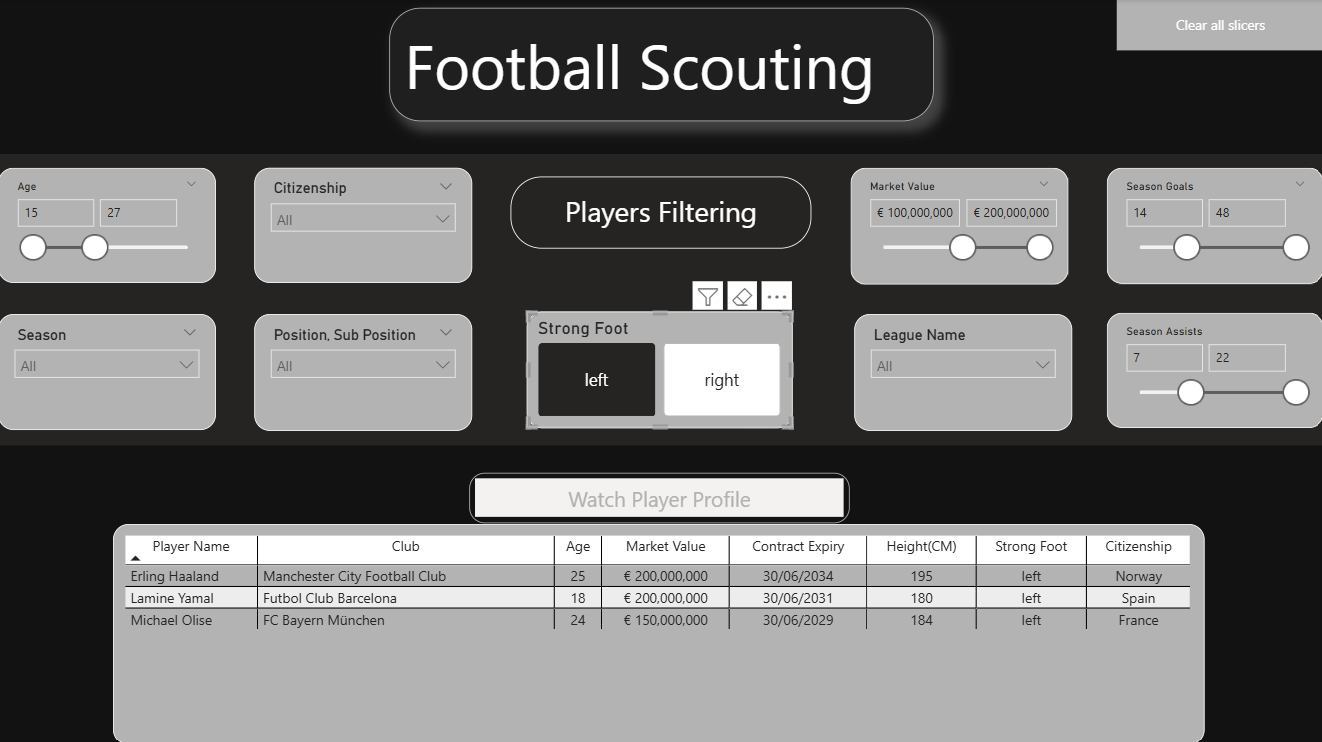

The page's visual inventory and layout, read from the dashboard file:
{"tool":"powerbi","page":{"name":"Players slicers","canvas":[1280,720],"ordinal":0},"visuals":[{"type":"shape","box":[0,150,1280,281.2],"z":0},{"type":"textbox","box":[377,8.3,525.9,109.9],"z":1000},{"type":"slicer","fields":{"Values":["players.position","players.sub_position"]},"box":[247.1,304.3,210,112.9],"z":2000},{"type":"textbox","box":[494.6,171.1,290.8,69.6],"z":3000},{"type":"slicer","fields":{"Values":["players.Age"]},"box":[0,163.3,210,111.1],"z":4000},{"type":"slicer","fields":{"Values":["players.market_value_in_eur"]},"box":[822.6,162.8,210.1,112.7],"z":5000},{"type":"slicer","fields":{"Values":["PlayerSeasonStats.Season"]},"box":[0,304.3,210,112],"z":6000},{"type":"tableEx","fields":{"Values":["PlayerSeasonStats.player_name","PlayerSeasonStats.club_name","players.Age","players.market_value_in_eur","players.Contract_Expiry_Clean","players.height_in_cm","players.foot","players.country_of_citizenship"]},"box":[111.2,506.2,1053.8,213.8],"z":7000},{"type":"slicer","fields":{"Values":["PlayerSeasonStats.name"]},"box":[826.9,304.3,210,112.9],"z":8000},{"type":"slicer","fields":{"Values":["PlayerSeasonStats.Season_Goals"]},"box":[1070,163.3,210,112.2],"z":9000},{"type":"slicer","fields":{"Values":["PlayerSeasonStats.Season_Assists"]},"box":[1070,302.9,210,111.4],"z":10000},{"type":"slicer","fields":{"Values":["players.country_of_citizenship"]},"box":[247.3,162.9,210,111.4],"z":11000},{"type":"advancedSlicerVisual","fields":{"Values":["players.foot"]},"box":[510,301.4,257.1,112.9],"z":12000},{"type":"actionButton","box":[1079.8,0,200.3,49.5],"z":13000},{"type":"actionButton","box":[455,457.5,367.5,48.8],"z":14000}]}

Visuals, with their boxes in screenshot pixels (x1, y1, x2, y2), scaled from the page's 1280x720 canvas onto the 1322x742 screenshot:
shape: crop(0, 155, 1321, 444)
textbox: crop(389, 9, 933, 122)
slicer - players.position x players.sub_position: crop(255, 314, 472, 430)
textbox: crop(511, 176, 811, 248)
slicer - players.Age: crop(0, 168, 217, 283)
slicer - players.market_value_in_eur: crop(850, 168, 1067, 284)
slicer - PlayerSeasonStats.Season: crop(0, 314, 217, 429)
tableEx - PlayerSeasonStats.player_name x PlayerSeasonStats.club_name: crop(115, 522, 1203, 741)
slicer - PlayerSeasonStats.name: crop(854, 314, 1071, 430)
slicer - PlayerSeasonStats.Season_Goals: crop(1105, 168, 1321, 284)
slicer - PlayerSeasonStats.Season_Assists: crop(1105, 312, 1321, 427)
slicer - players.country_of_citizenship: crop(255, 168, 472, 283)
advancedSlicerVisual - players.foot: crop(527, 311, 792, 427)
actionButton: crop(1115, 0, 1321, 51)
actionButton: crop(470, 471, 849, 522)
